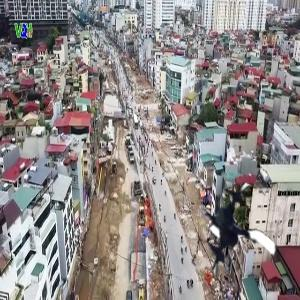drone: (188, 185, 294, 291)
